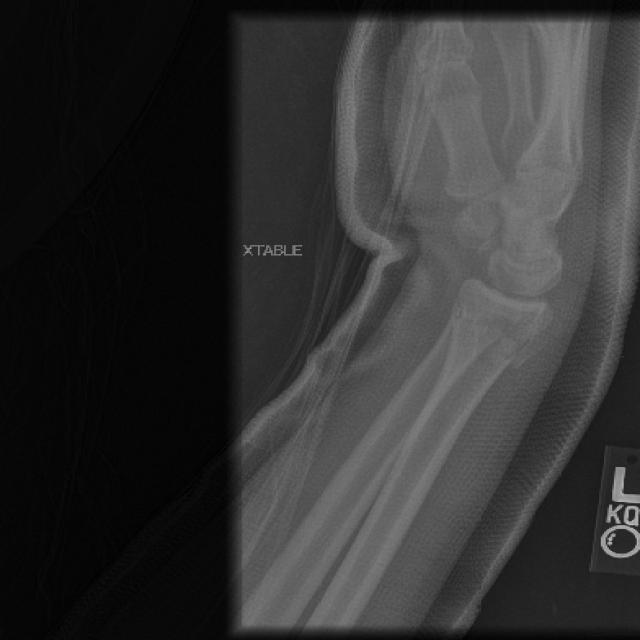fingers positive: (426, 262, 571, 389)
